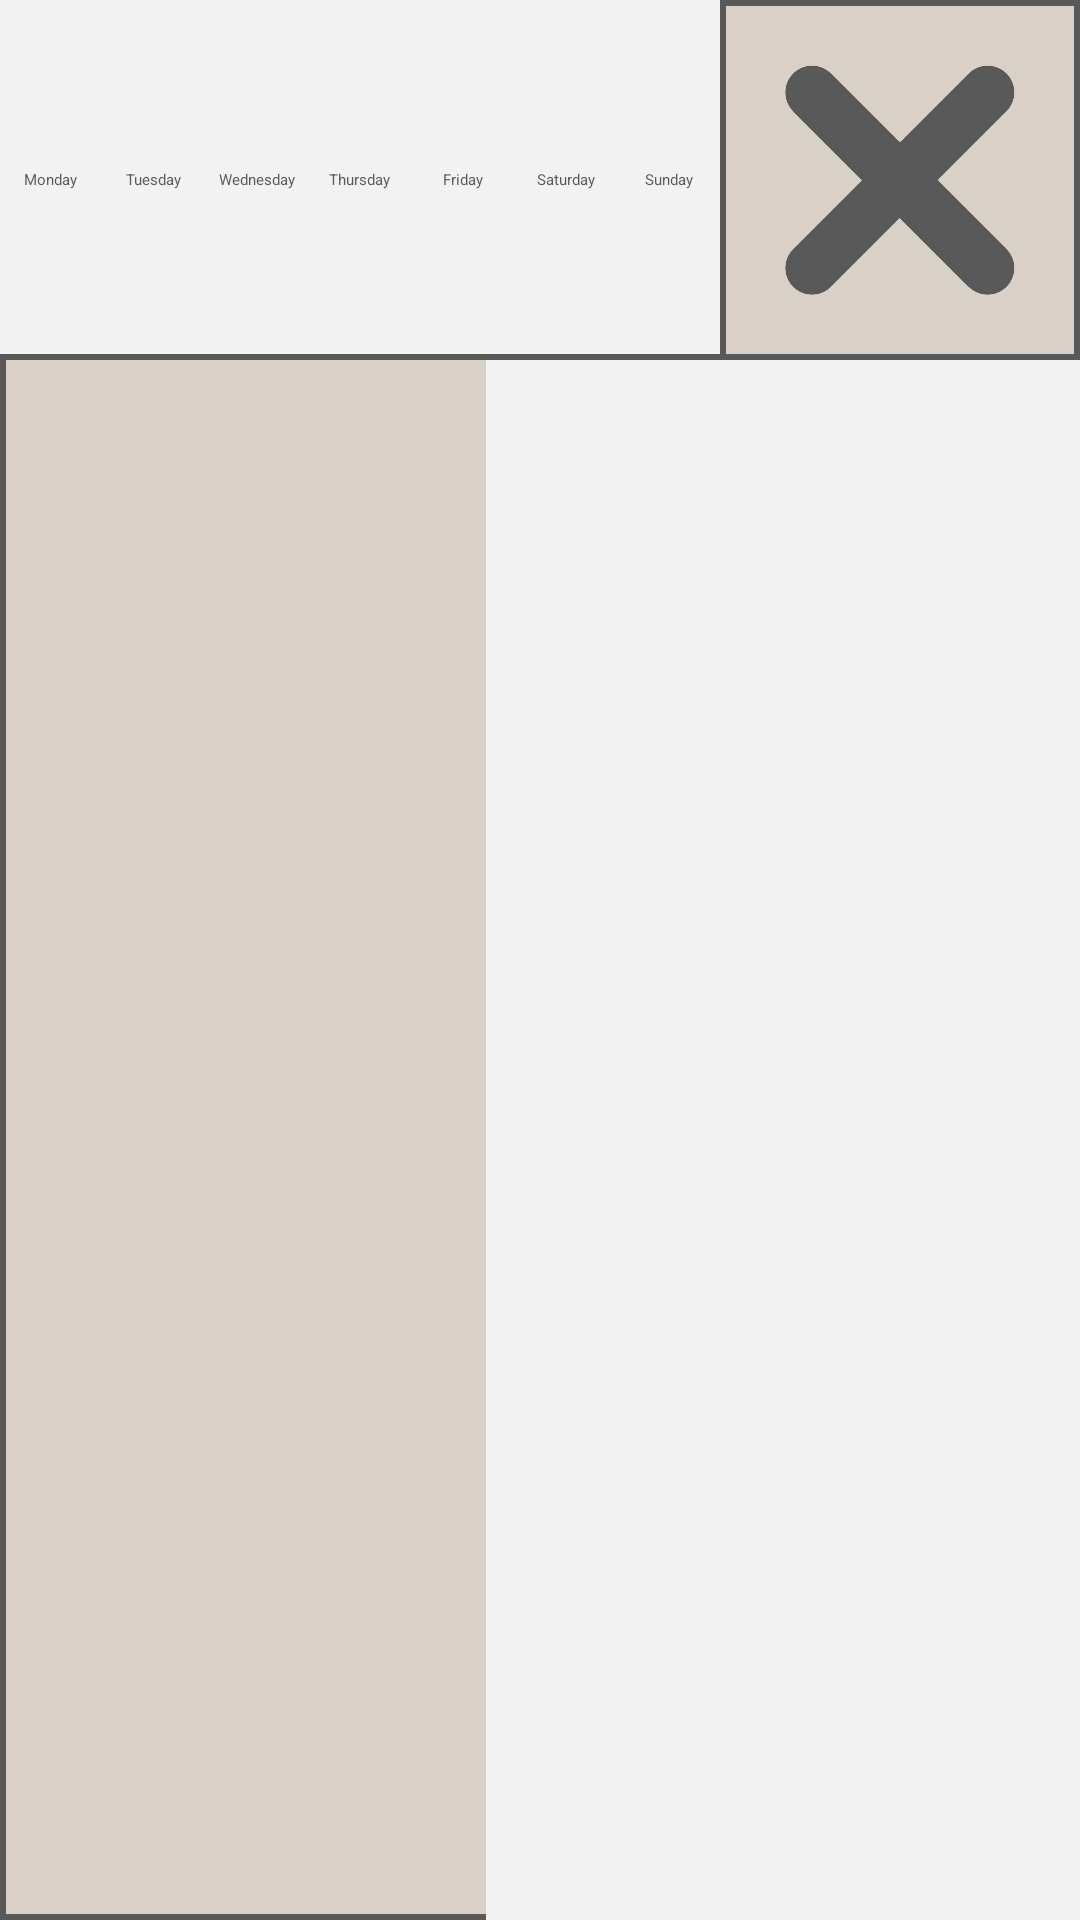

Screen size 1080*1920. Icon name, then its center in pixels as (x=x, y=y):
delete: (x=900, y=177)
